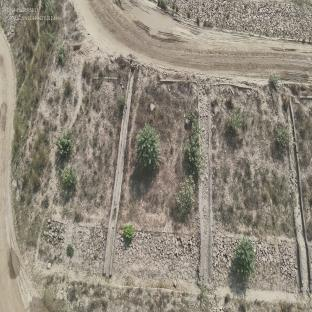rock_toe: (115, 227, 199, 283), (215, 235, 301, 288), (39, 219, 107, 274)
slope_drain: (281, 92, 312, 292), (103, 71, 133, 277), (198, 81, 213, 283)
vegetation: (174, 114, 200, 221), (134, 124, 163, 176), (232, 238, 255, 280)
